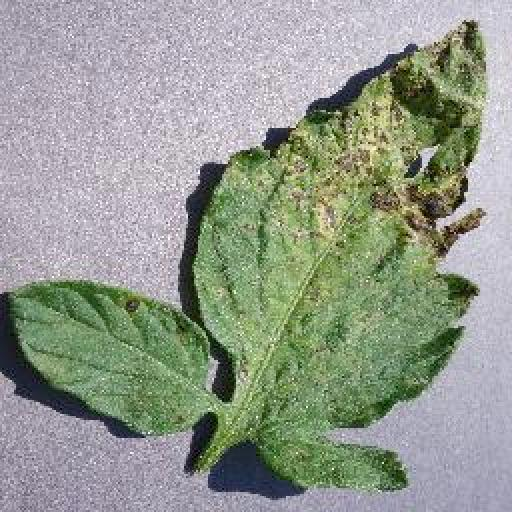disease_tomato: (194, 16, 492, 494)
